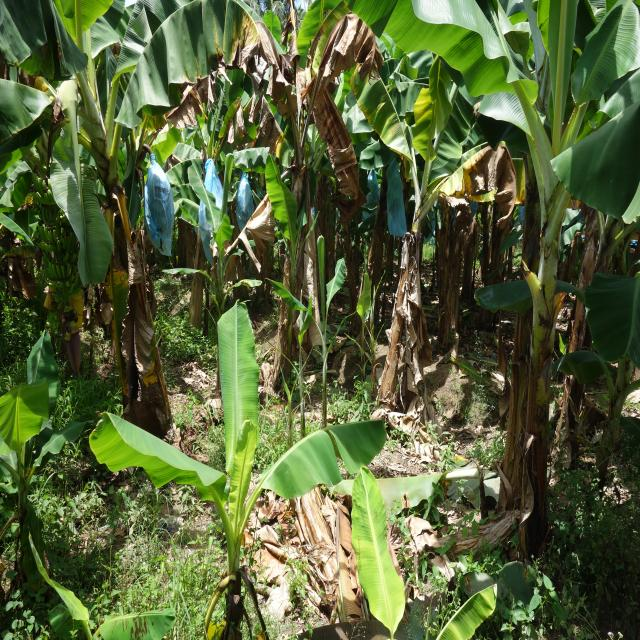Banana-plant: (526, 128, 573, 573), (383, 160, 426, 410), (268, 118, 306, 394)
